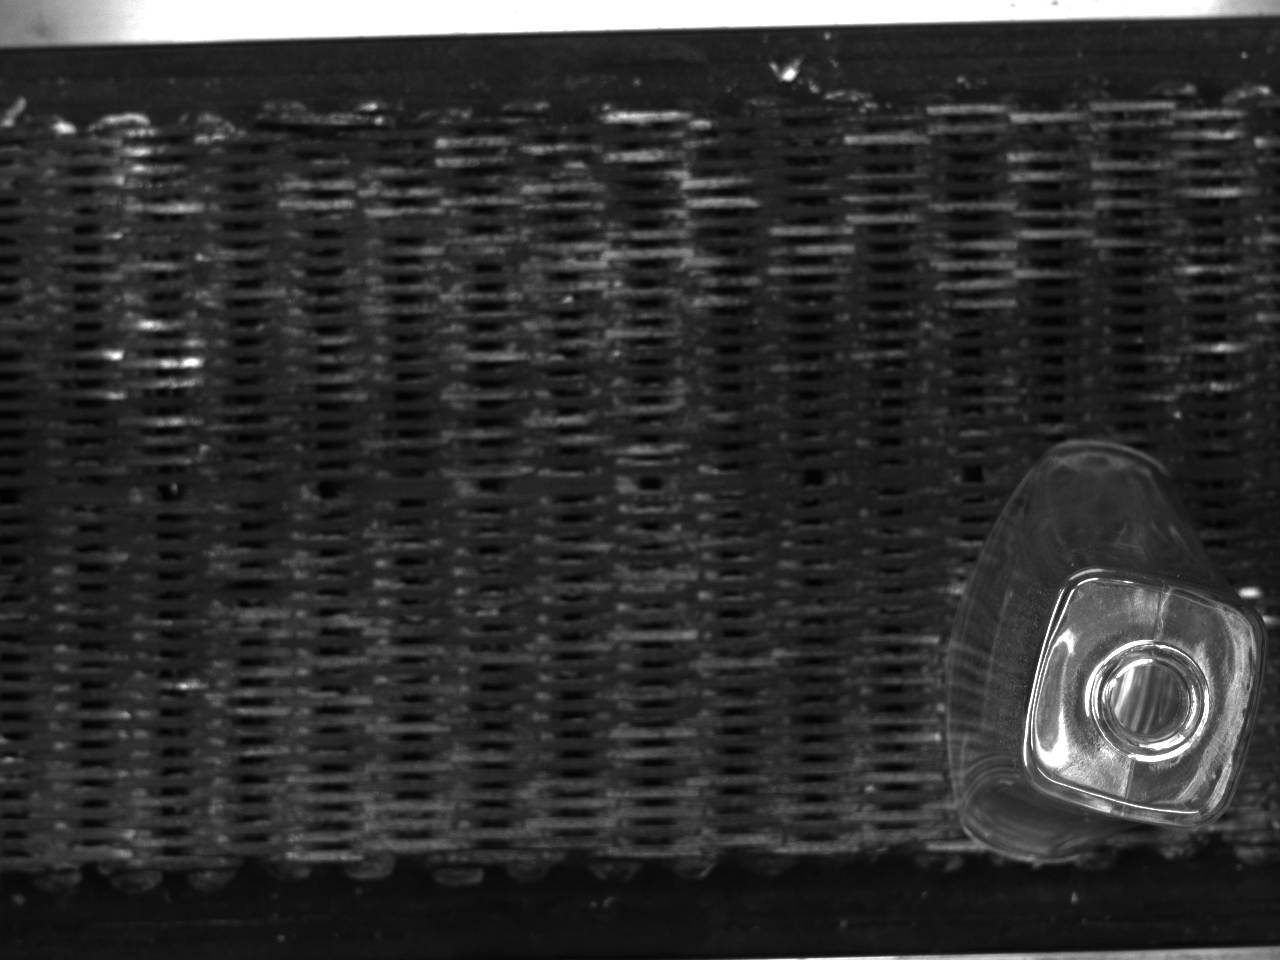bottleneck: (1092, 640, 1210, 763)
